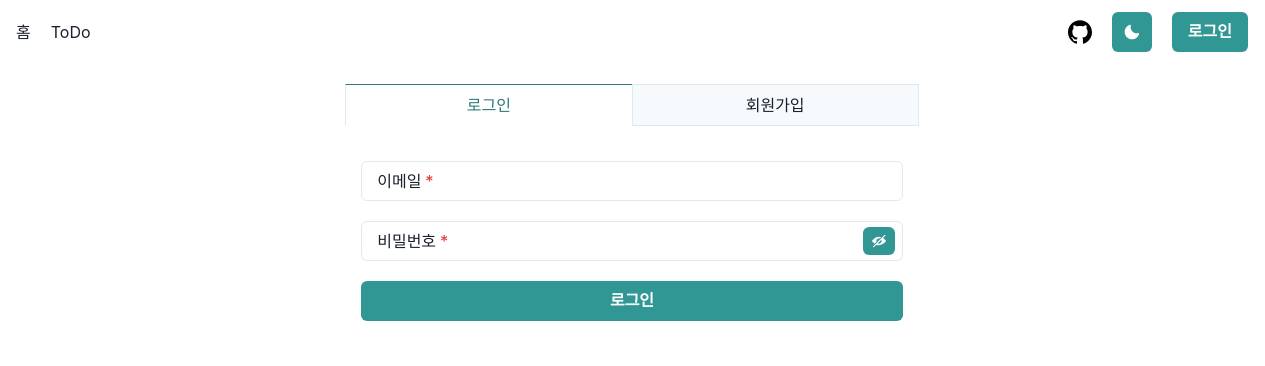
로그인 폼 유효성 검사 › 비밀번호 필숫값
This screenshot has width=1265, height=366.
What coordinates should you click on to do the following:
click the password field with test id "passwordInput"
I would click on:
 (632, 241)
Its box is x1=361 y1=221 x2=903 y2=261.
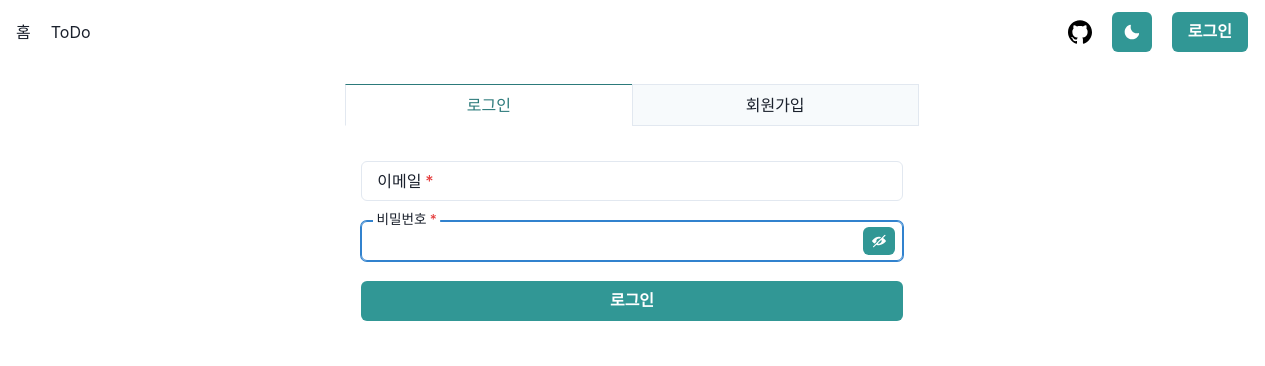
What coordinates should you click on to do the following:
click the field with test id "emailInput"
I would click on:
 (632, 181)
Its box is x1=361 y1=161 x2=903 y2=201.
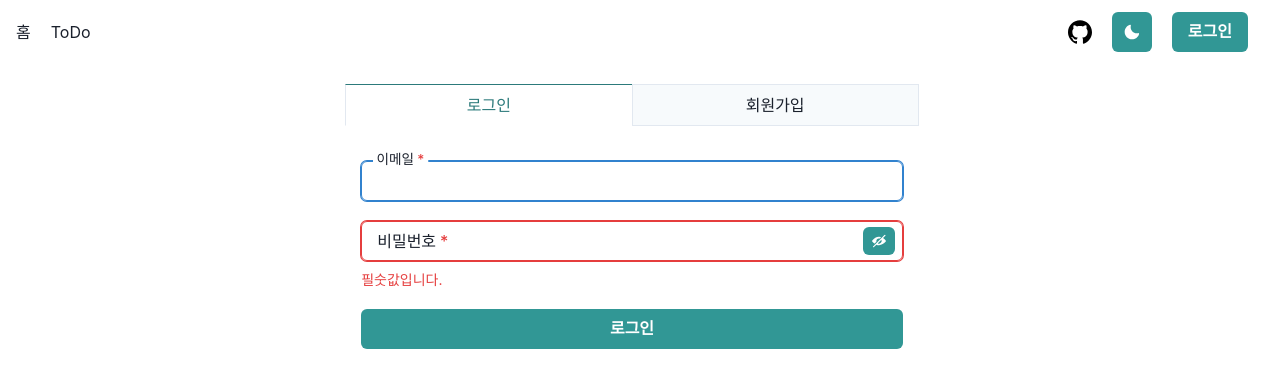
Check: the text with test id "passwordErrorMessage" reads "필숫값입니다.", box x1=361 y1=271 x2=442 y2=288
